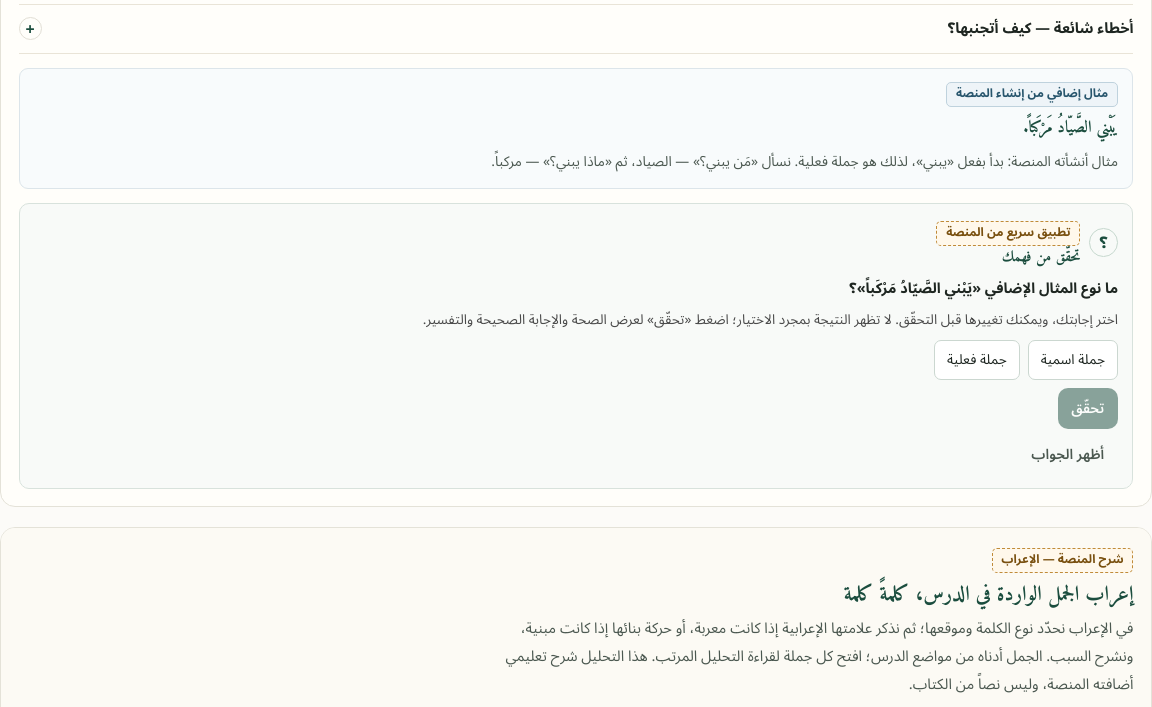
Lesson 1 — unified attempt → check protocol (platform drills and activities) › reveals nothing on selection in the grammar drill, and allows changing the answer before checking
(page scrolled)
Expected: the element that starts with "تطبيق سريع من المنصة" is shown, [19,203,1133,489]
Expected: the element named "ما نوع المثال الإضافي «يَبْني الصَّيّادُ مَرْكَباً»؟" is shown, [934,340,1118,380]
# attempt — no verdict of any kind
Click the button "جملة فعلية".
click(977, 360)  # box [934,340,1020,380]
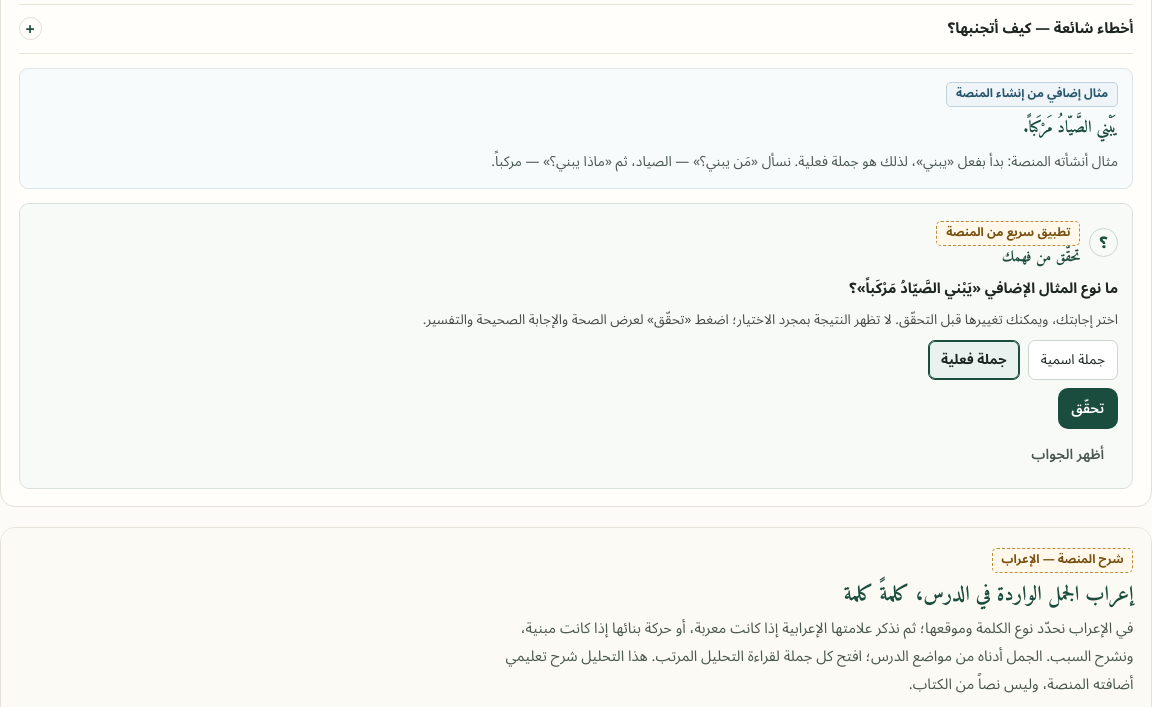
Expected: the text "صحيح:" is not shown
Expected: the button "جملة فعلية" is pressed, [928,340,1020,380]
# the answer can still be changed before checking
Click the button "جملة اسمية".
click(1073, 360)  # box [1028,340,1118,380]
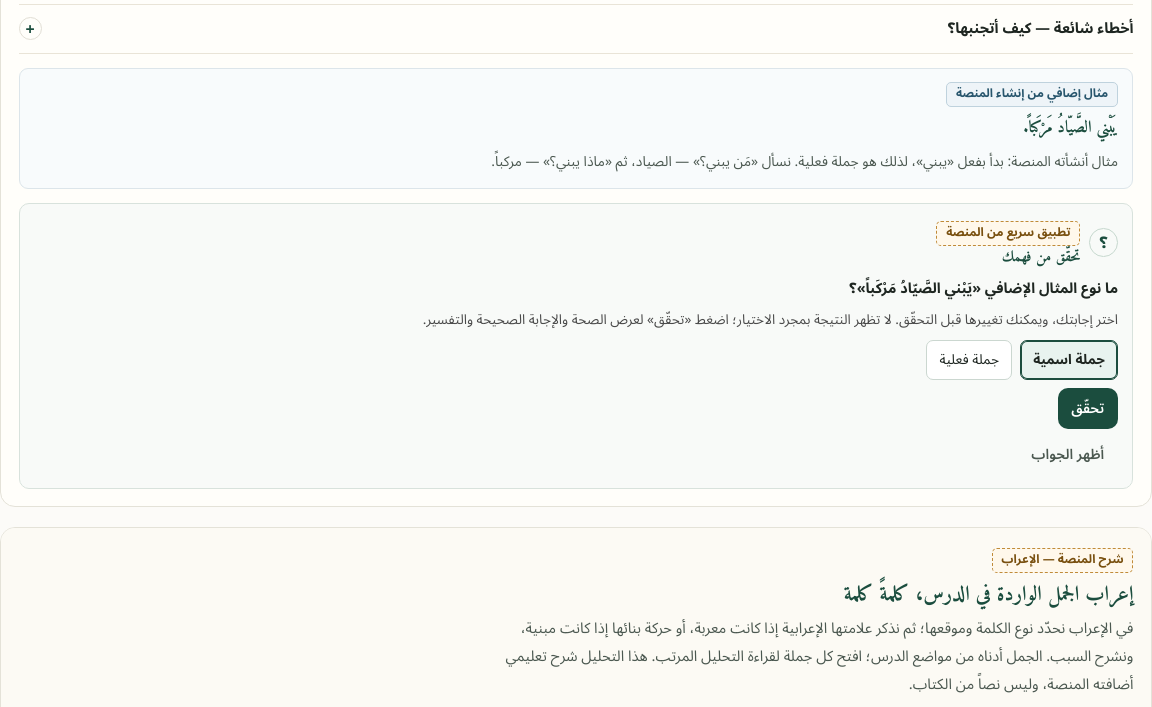
Expected: the button "جملة اسمية" is pressed, [1020,340,1118,380]
Expected: the button "جملة فعلية" is not pressed, [926,340,1012,380]
# check → correctness + the correct answer + the explanation
Click the button "تحقّق".
click(1088, 408)  # box [1058,388,1118,429]
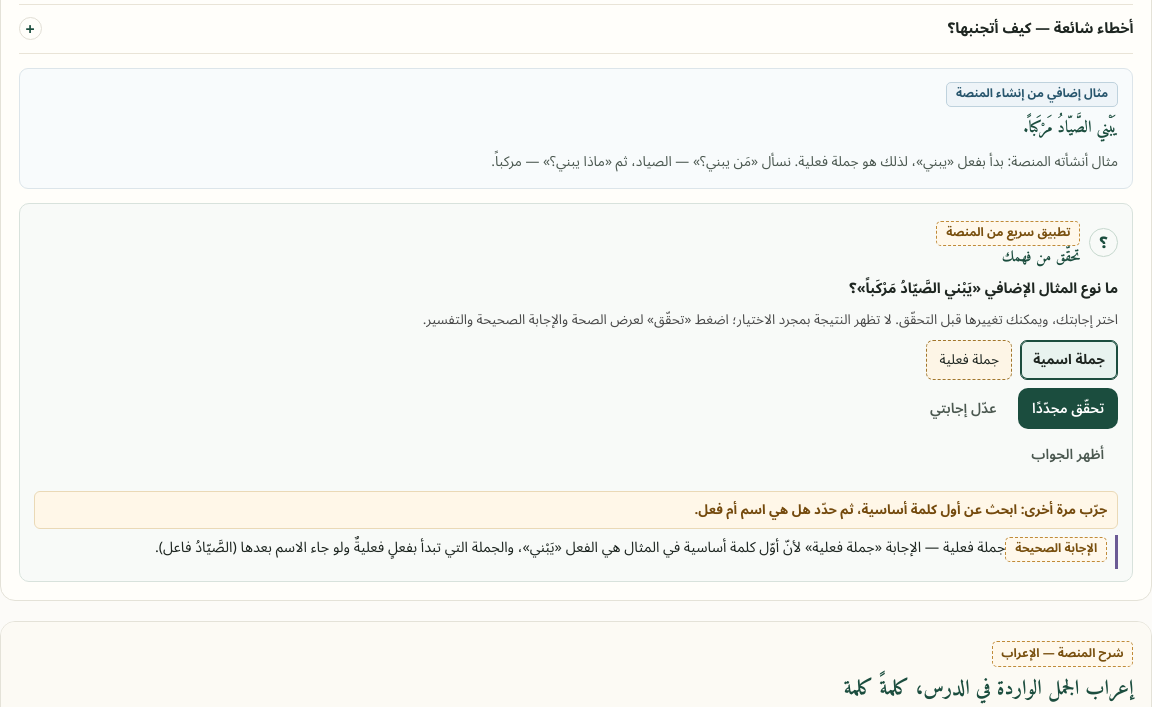
Expected: the element that starts with "تطبيق سريع من المنصة" shows "الإجابة الصحيحة", [1015,536,1097,561]
Expected: the message shows "جرّب مرة أخرى", [695,496,1107,524]
Expected: the element that starts with "تطبيق سريع من المنصة" shows "الجملة التي تبدأ بفعلٍ فعليةٌ", [155,532,943,563]
# edit & retry: a new choice clears the verdict until the next check
Click the button "عدّل إجابتي".
click(963, 408)  # box [916,388,1010,429]
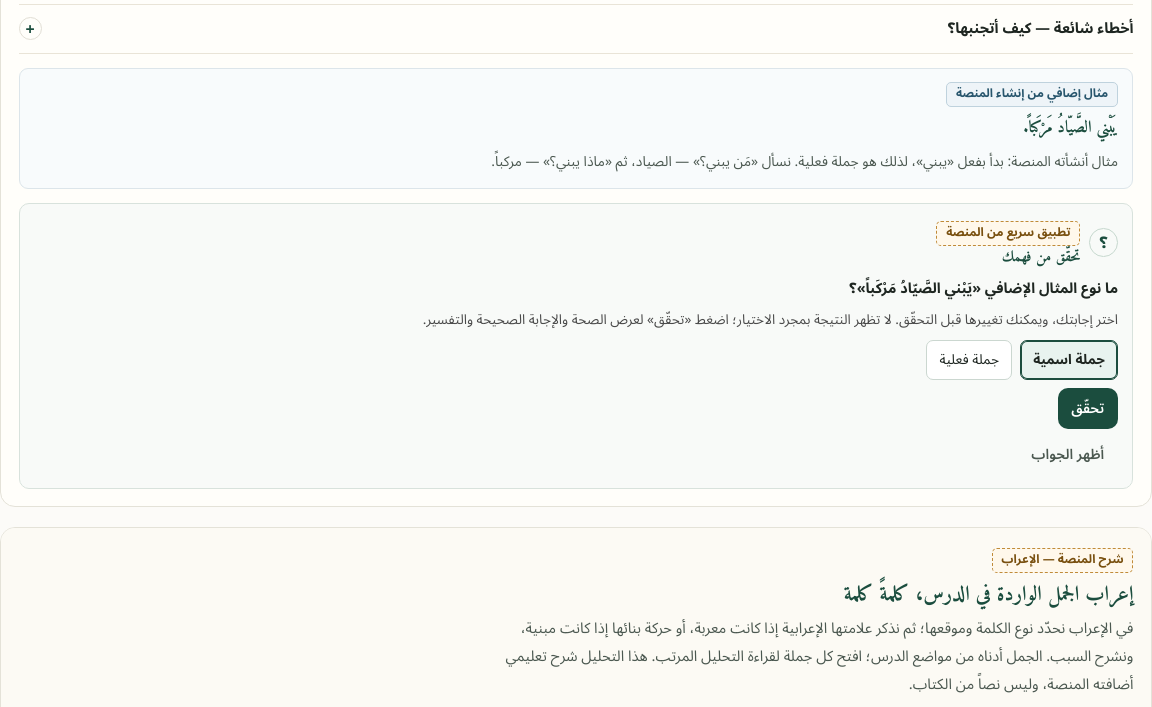
Expected: the message "جرّب مرة أخرى: ابحث عن أول كلمة أساسية، ثم حدّد هل هي اسم أم فعل." is gone
Click the button "جملة فعلية".
click(969, 360)  # box [926,340,1012,380]
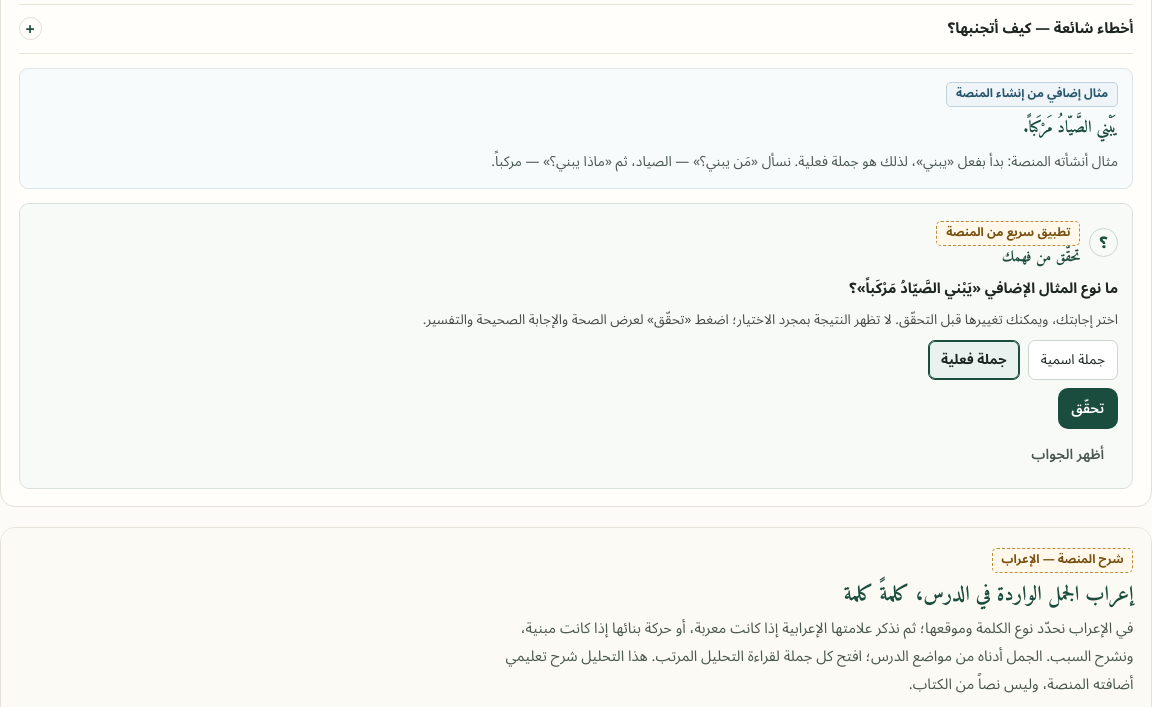
Expected: the message "جرّب مرة أخرى: ابحث عن أول كلمة أساسية، ثم حدّد هل هي اسم أم فعل." is not shown
Click the button "تحقّق".
click(1088, 408)  # box [1058,388,1118,429]
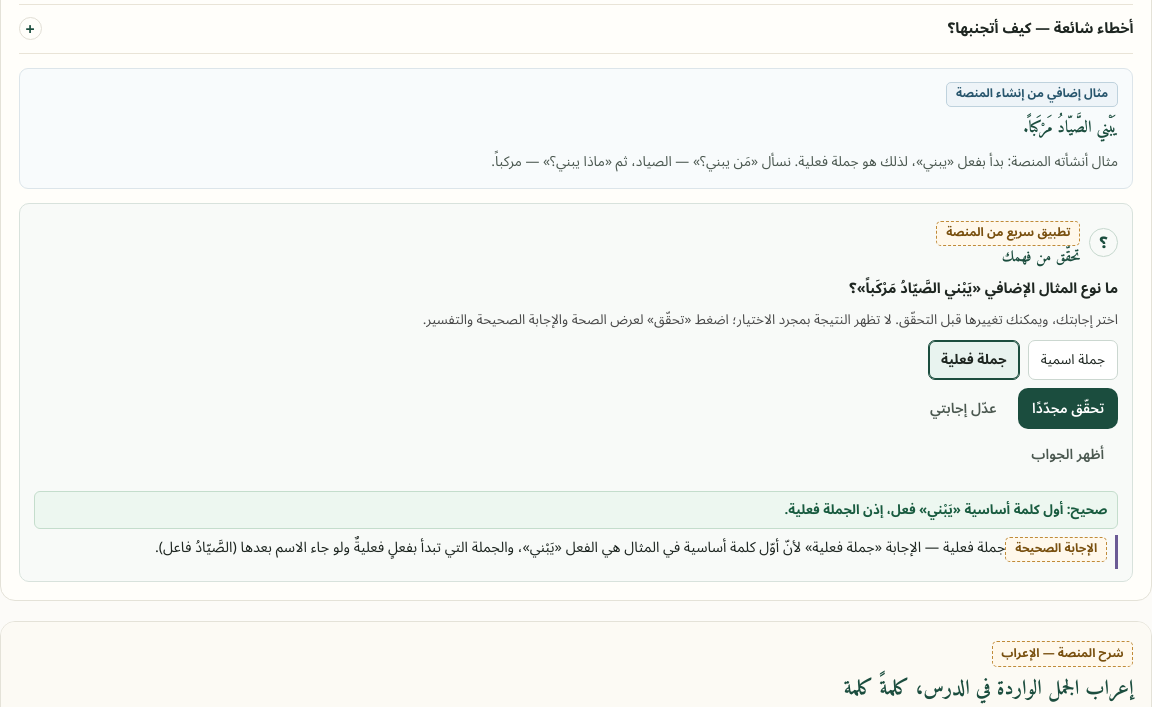
Expected: the message shows "صحيح: أول كلمة أساسية", [784,496,1107,524]
